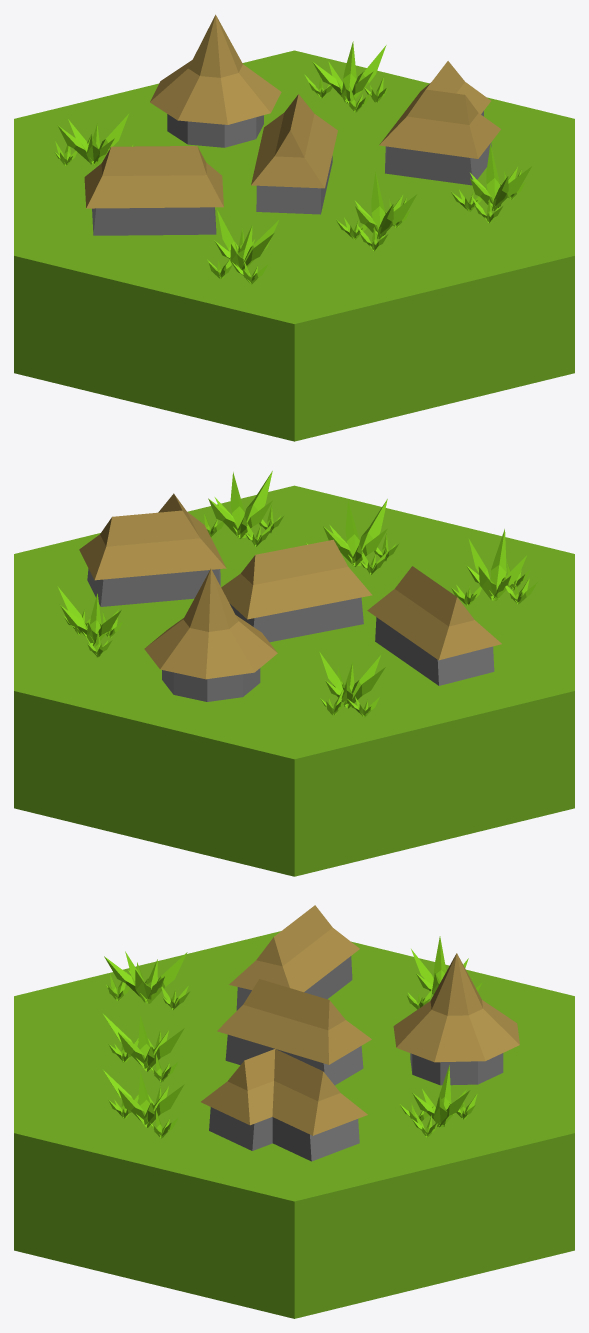
Rendered from Casas_Sabana_4.fbx.
The picture shows the model from 3 angles, top to bottom: view 1: azimuth 30°, elevation 25°; view 2: azimuth 150°, elevation 25°; view 3: azimuth 270°, elevation 25°; orthographic projection.
Visible parts, largest first — view 1: Casas_Sabana_4; view 2: Casas_Sabana_4; view 3: Casas_Sabana_4.
Boxes of the visible parts, left/top/right/bottom form: Casas_Sabana_4: left=14, top=14, right=574, bottom=441; Casas_Sabana_4: left=14, top=471, right=574, bottom=876; Casas_Sabana_4: left=14, top=905, right=574, bottom=1318.
Size of the model in its own units: 200 by 78.5 by 173.
